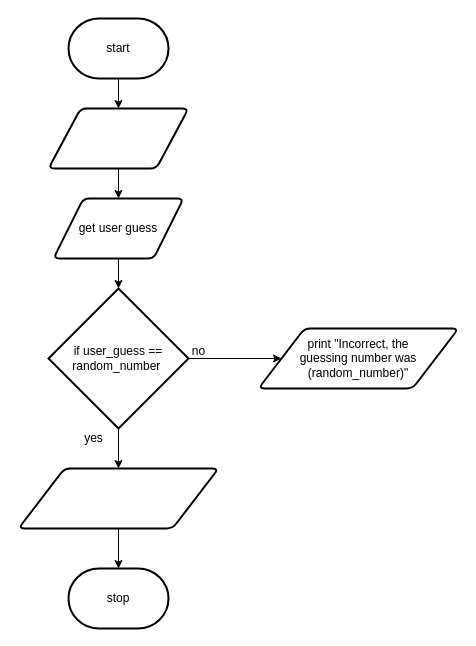
Some shapes in this 476 by 646 pixel diagram are drawn without their labels. Each missing label, with the centre of its shape:
generate random number: (118,138)
print "Correct guess!": (118,498)
